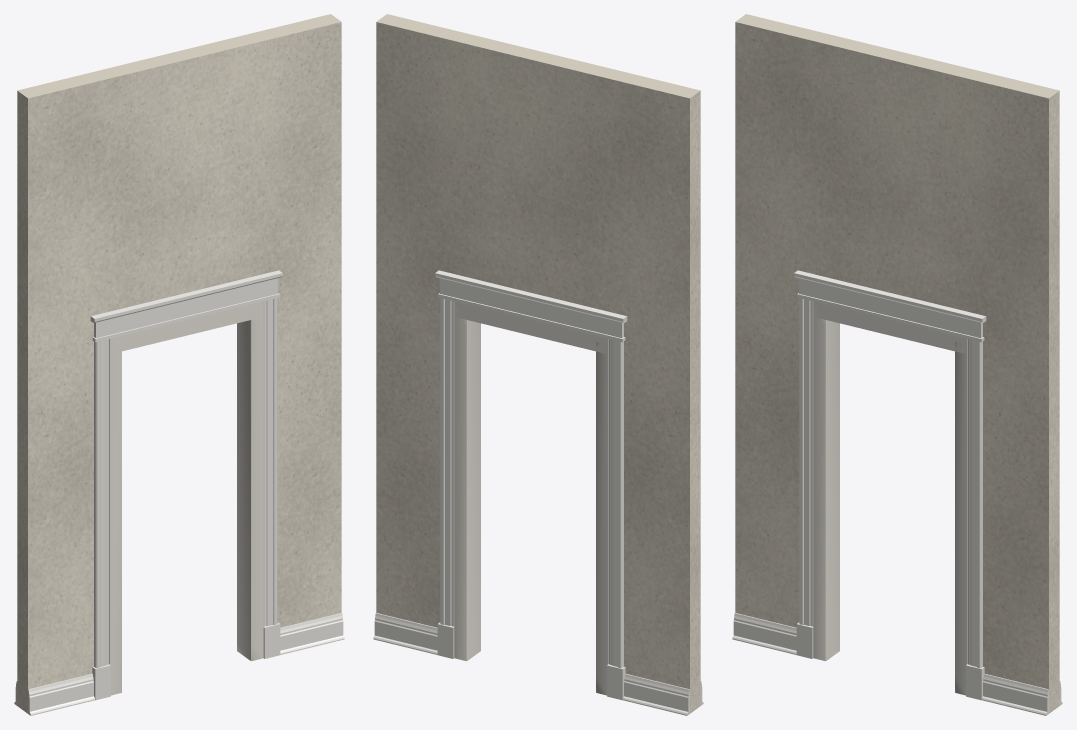
Rendered from interior_wall_doorway.glb.
3 views of the same model, side by side, from view 1: azimuth 30°, elevation 25°; view 2: azimuth 150°, elevation 25°; view 3: azimuth 330°, elevation 25° (orthographic).
Parts seen in each view (by area): view 1: interior_wall_doorway_plaster, molduras, interior_wall_doorway_frame; view 2: interior_wall_doorway_plaster, molduras, interior_wall_doorway_frame; view 3: interior_wall_doorway_plaster, molduras, interior_wall_doorway_frame.
Part boxes in pixels (<box>): interior_wall_doorway_plaster: <box>17,14,341,713</box>; molduras: <box>14,270,344,715</box>; interior_wall_doorway_frame: <box>109,301,263,695</box>; interior_wall_doorway_plaster: <box>376,14,700,713</box>; molduras: <box>373,270,703,715</box>; interior_wall_doorway_frame: <box>454,301,608,695</box>; interior_wall_doorway_plaster: <box>735,14,1059,713</box>; molduras: <box>732,270,1062,715</box>; interior_wall_doorway_frame: <box>813,301,967,695</box>.
Size of the model in its own units: 2 by 3.75 by 0.204.
3 materials, 1 textured.
